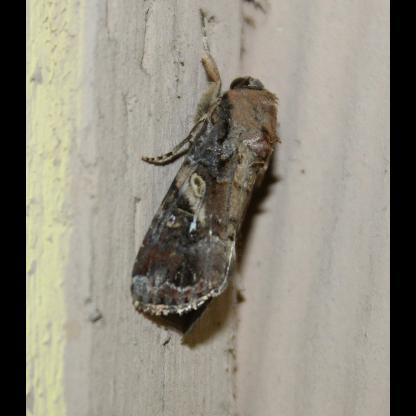Fall Armyworm Moth: (126, 5, 286, 349)
